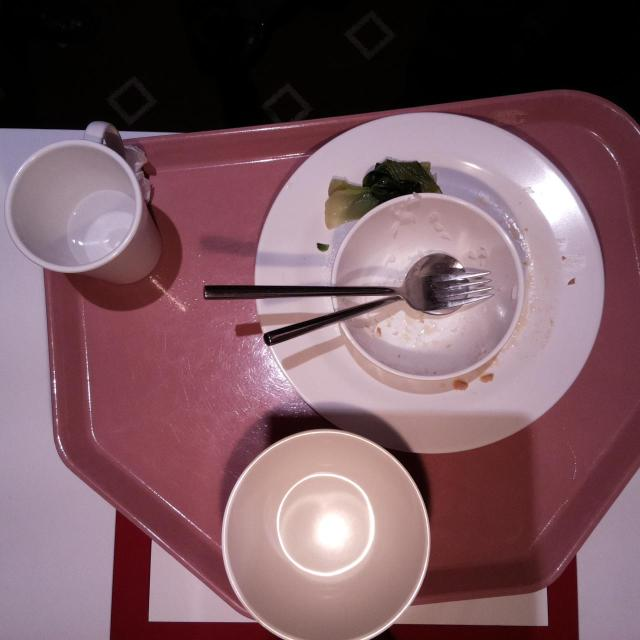Vegetable: (360, 160, 440, 198)
